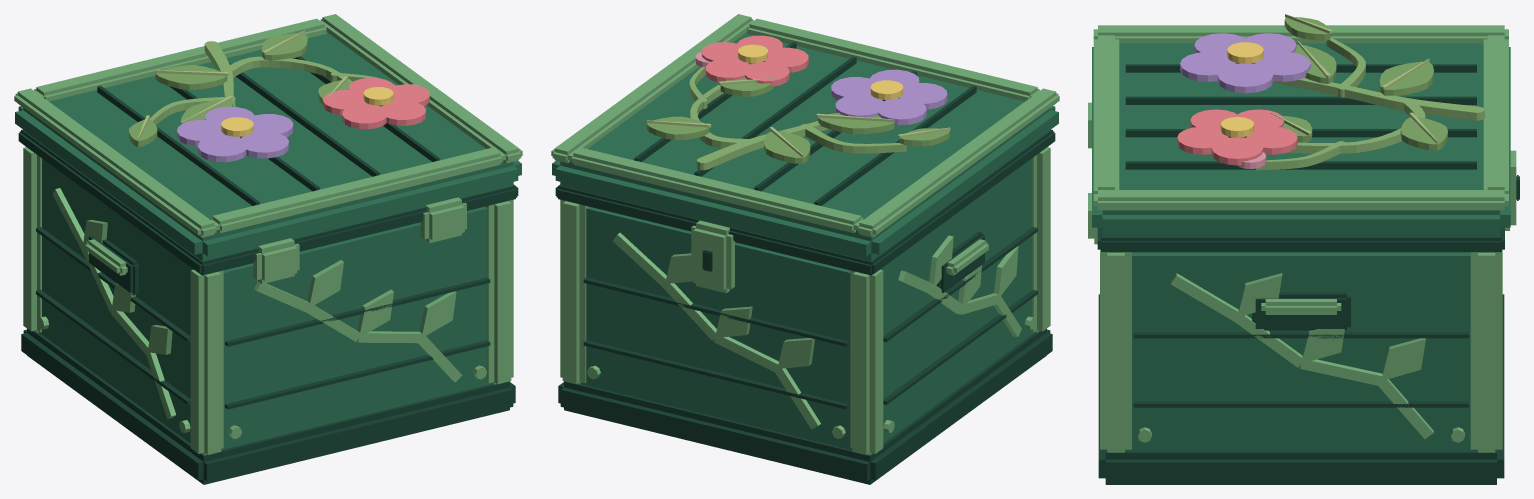
Rendered from crate_jardim.fbx.
3 views of the same model, side by side, from view 1: azimuth 30°, elevation 25°; view 2: azimuth 150°, elevation 25°; view 3: azimuth 270°, elevation 25° (orthographic). The views are drawn at different scales.
Visible parts, largest first — view 1: crate_jardim_caixa; view 2: crate_jardim_caixa; view 3: crate_jardim_caixa.
Boxes of the visible parts, left/top/right/bottom form: crate_jardim_caixa: left=14, top=14, right=522, bottom=484; crate_jardim_caixa: left=551, top=14, right=1059, bottom=484; crate_jardim_caixa: left=1088, top=14, right=1519, bottom=484.
Size of the model in its own units: 2.68 by 2.23 by 2.7.
1 material, 1 textured.
